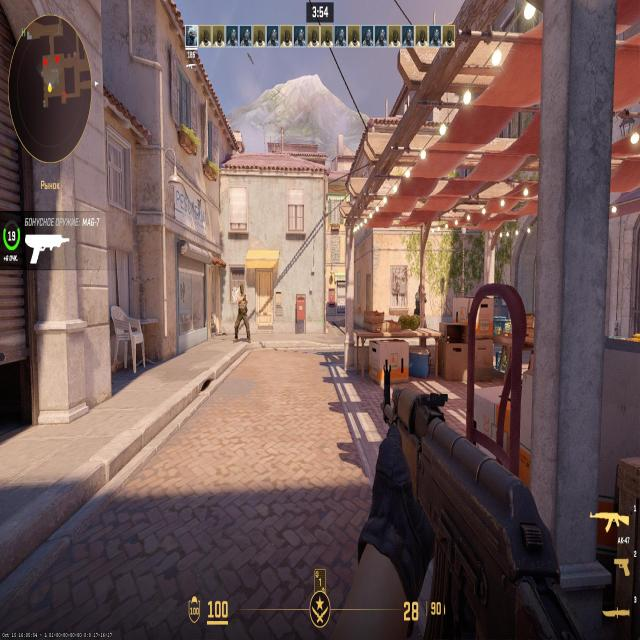T: (238, 286, 248, 335)
T_heat: (238, 288, 244, 296)
